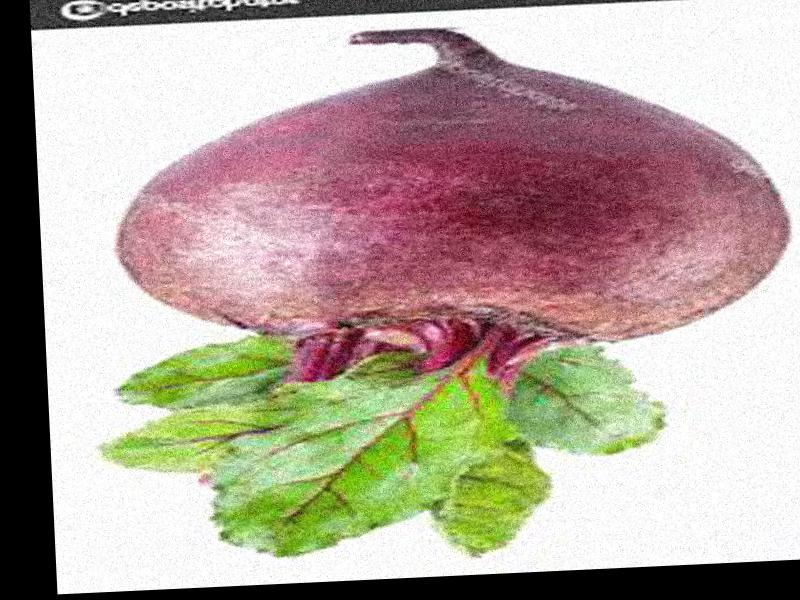Beet: (82, 15, 800, 572)
